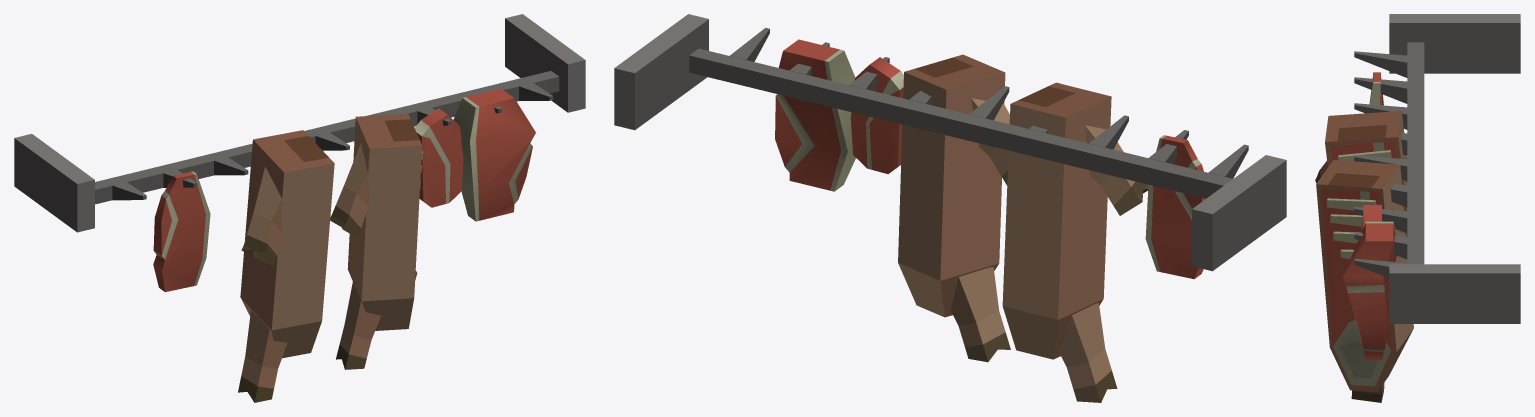
Rendered from SM_Prop_Hook_Rack_02.glb.
3 views of the same model, side by side, from view 1: azimuth 30°, elevation 25°; view 2: azimuth 150°, elevation 25°; view 3: azimuth 270°, elevation 25° (orthographic). The views are drawn at different scales.
Parts seen in each view (by area): view 1: SM_Prop_Hook_Rack_02; view 2: SM_Prop_Hook_Rack_02; view 3: SM_Prop_Hook_Rack_02.
Boxes of the visible parts, x1,y1,x2,y2 form: SM_Prop_Hook_Rack_02: (14, 14, 585, 402); SM_Prop_Hook_Rack_02: (614, 14, 1286, 402); SM_Prop_Hook_Rack_02: (1315, 14, 1520, 402).
Bounding box in the file's own units: 0.0466 × 0.0218 × 0.0156.
1 material, 1 textured.
